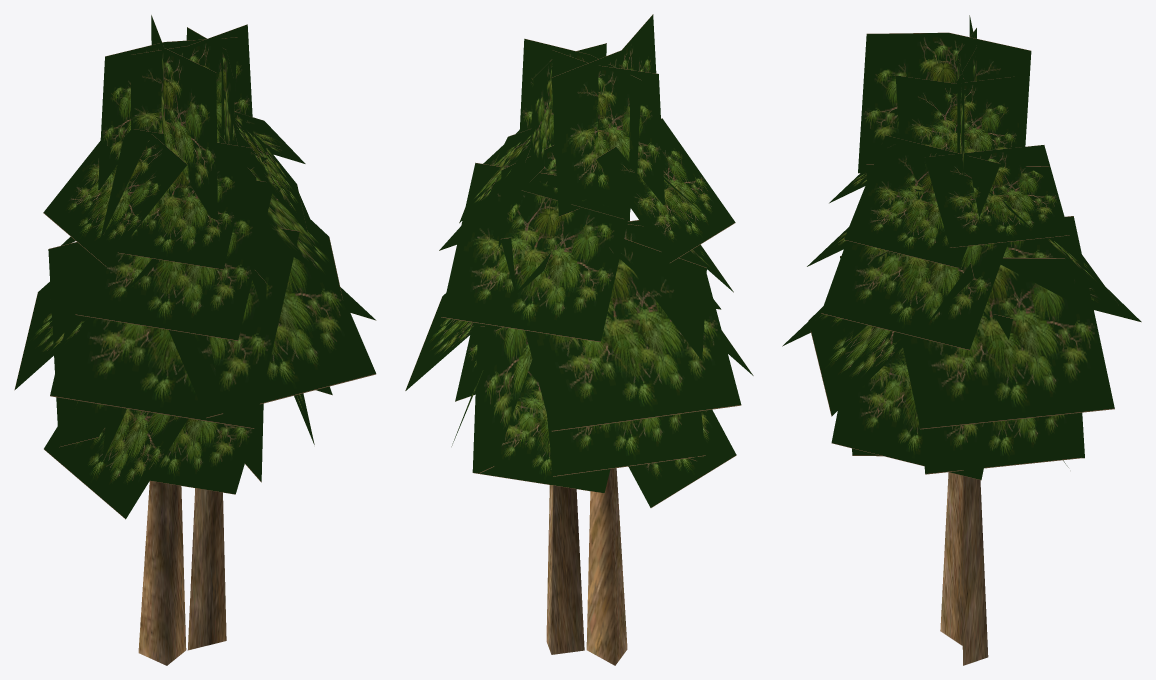
Rendered from decd_endr_blumbush_l3.fbx.
The picture shows the model from 3 angles, left to right: view 1: azimuth 30°, elevation 25°; view 2: azimuth 150°, elevation 25°; view 3: azimuth 270°, elevation 25°; orthographic projection. The views are drawn at different scales.
Parts seen in each view (by area): view 1: mesh_node; view 2: mesh_node; view 3: mesh_node.
Boxes of the visible parts, x1=… form: mesh_node: x1=14, y1=15, x2=376, y2=665; mesh_node: x1=405, y1=14, x2=753, y2=665; mesh_node: x1=782, y1=15, x2=1141, y2=665.
Bounding box in the file's own units: 26.49 × 46.94 × 25.35.
2 materials, 2 textured.
